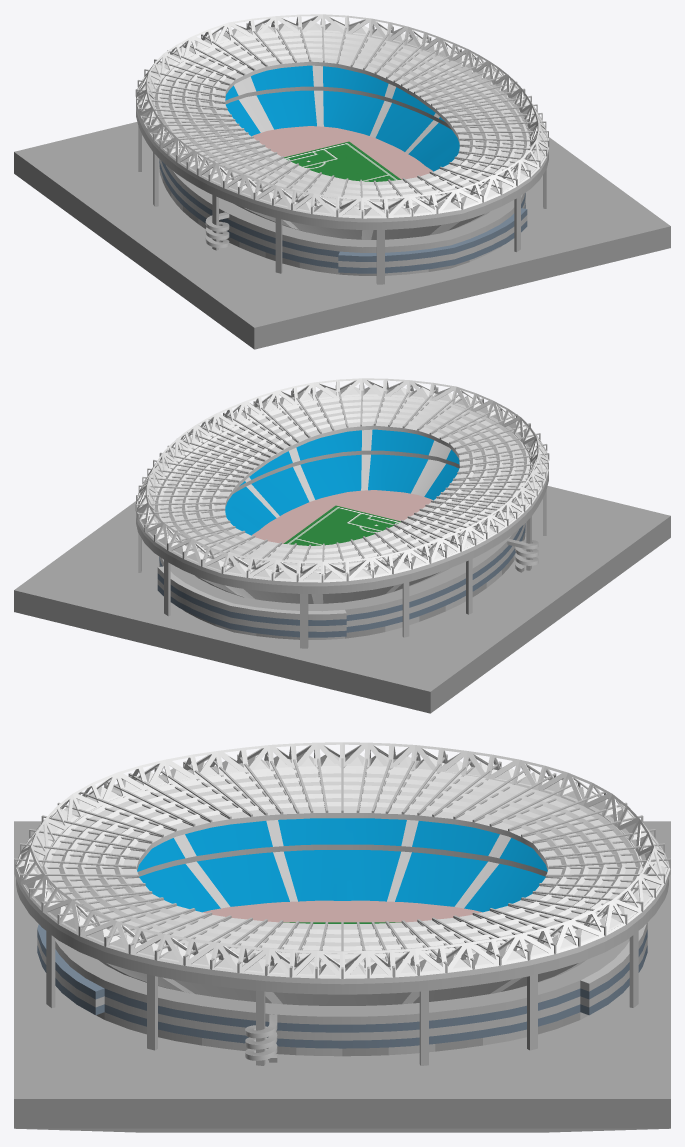
Rendered from Stadium.fbx.
3 renders of one model, top to bottom at view 1: azimuth 30°, elevation 25°; view 2: azimuth 150°, elevation 25°; view 3: azimuth 270°, elevation 25°, orthographic. The views are drawn at different scales.
Visible parts, largest first — view 1: FSt_Ita_004; view 2: FSt_Ita_004; view 3: FSt_Ita_004.
Part boxes in pixels (left/top/right/bottom): FSt_Ita_004: left=14, top=14, right=670, bottom=349; FSt_Ita_004: left=14, top=378, right=670, bottom=713; FSt_Ita_004: left=14, top=742, right=670, bottom=1132.
Bounding box in the file's own units: 800 × 272 × 800.
